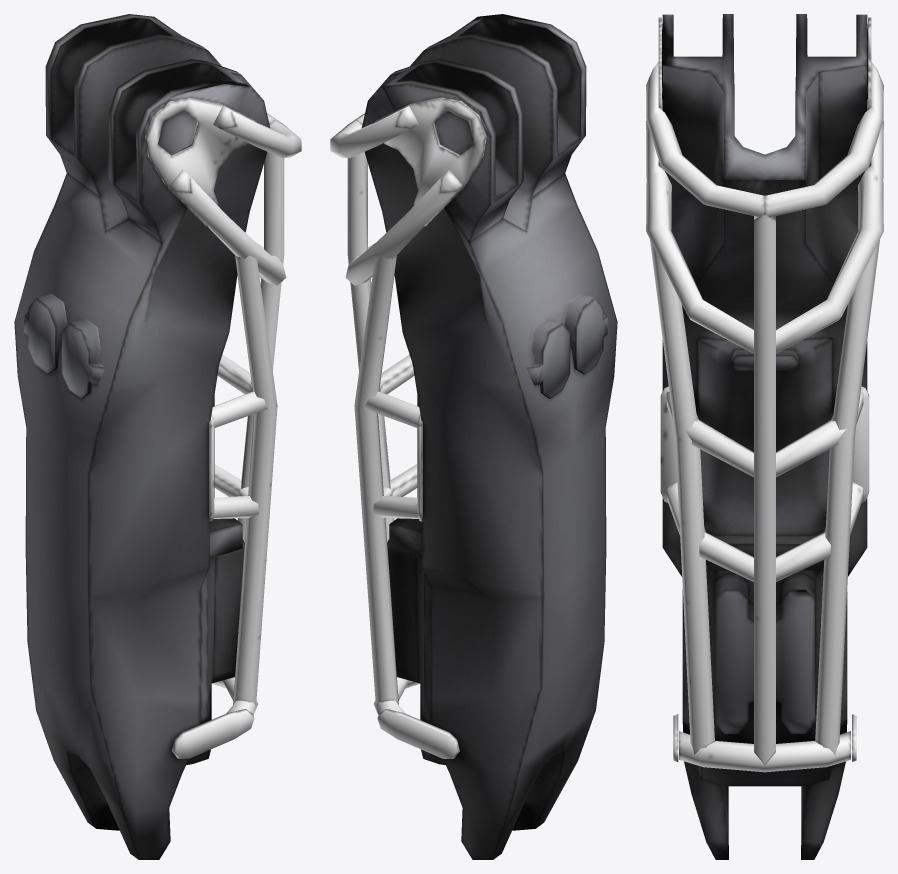
File: r_lleg.dae
3 views of the same model, side by side, from view 1: azimuth 30°, elevation 25°; view 2: azimuth 150°, elevation 25°; view 3: azimuth 270°, elevation 25° (orthographic). The views are drawn at different scales.
Parts seen in each view (by area): view 1: r_lleg; view 2: r_lleg; view 3: r_lleg.
Boxes of the visible parts, box(x1,y1,x2,y2) form: r_lleg: box(14, 14, 301, 859); r_lleg: box(330, 14, 617, 859); r_lleg: box(646, 14, 883, 859).
Bounding box in the file's own units: 0.1367 × 0.116 × 0.4522.
Materials: 1 (1 with a texture image).
